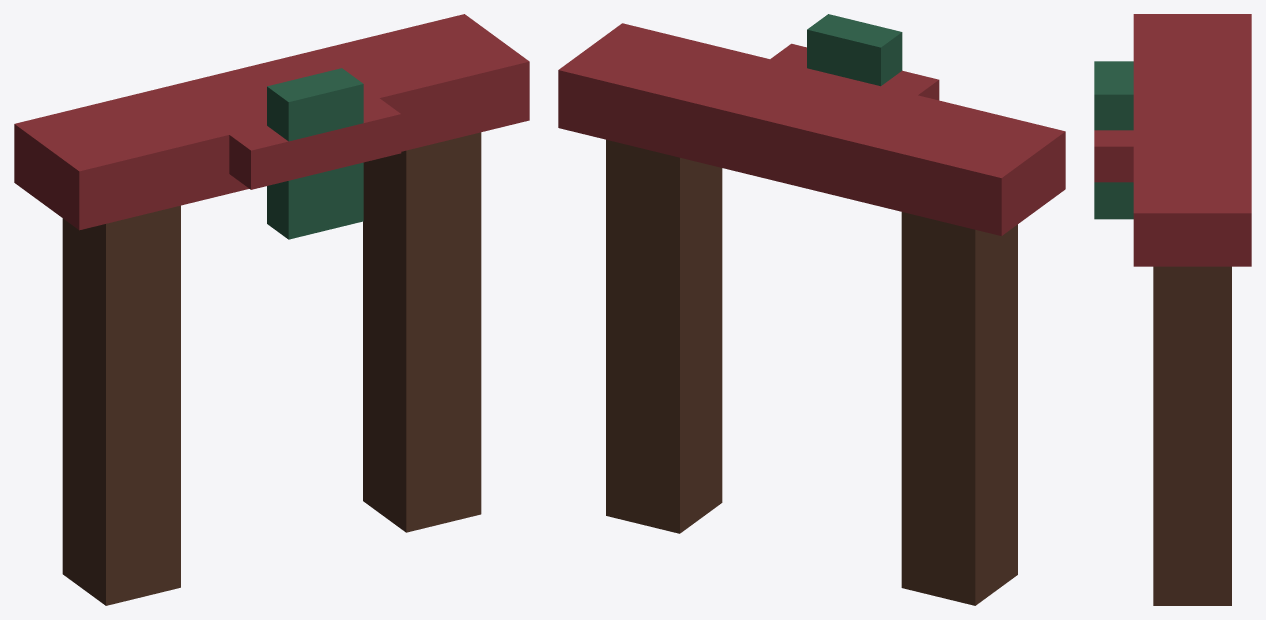
The model's file is gate.glb.
3 renders of one model, left to right at view 1: azimuth 30°, elevation 25°; view 2: azimuth 150°, elevation 25°; view 3: azimuth 270°, elevation 25°, orthographic. The views are drawn at different scales.
Visible parts, largest first — view 1: Shell; view 2: Shell; view 3: Shell.
Boxes of the visible parts, box(x1,y1,x2,y2) form: Shell: box(14, 14, 529, 605); Shell: box(558, 14, 1065, 605); Shell: box(1094, 14, 1251, 605).
Bounding box in the file's own units: 3 × 3.12 × 1.
